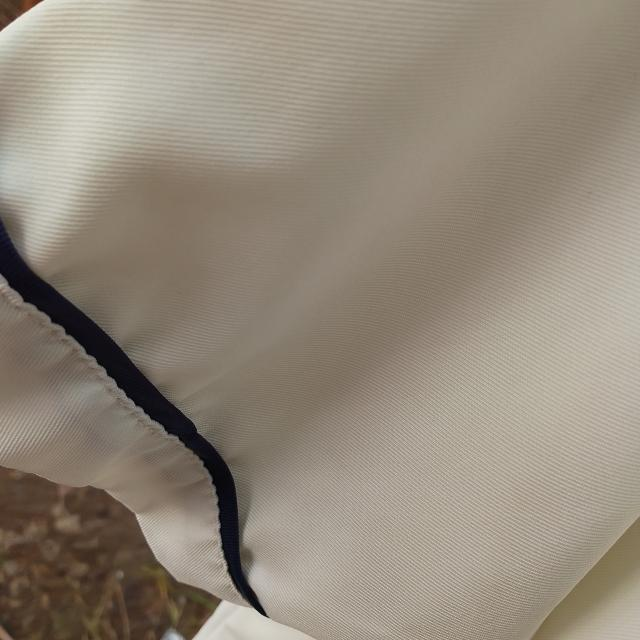education_male_uniform: (7, 1, 509, 640)
